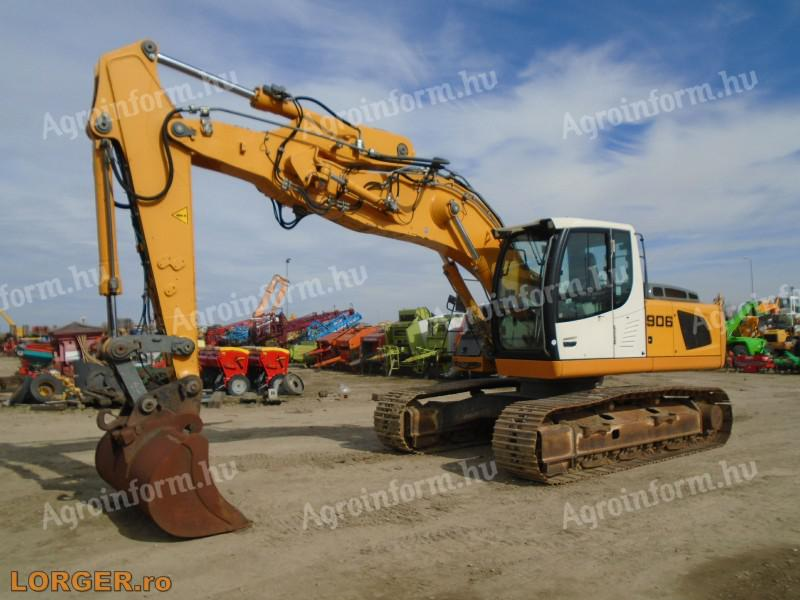shovel: (79, 37, 741, 531)
